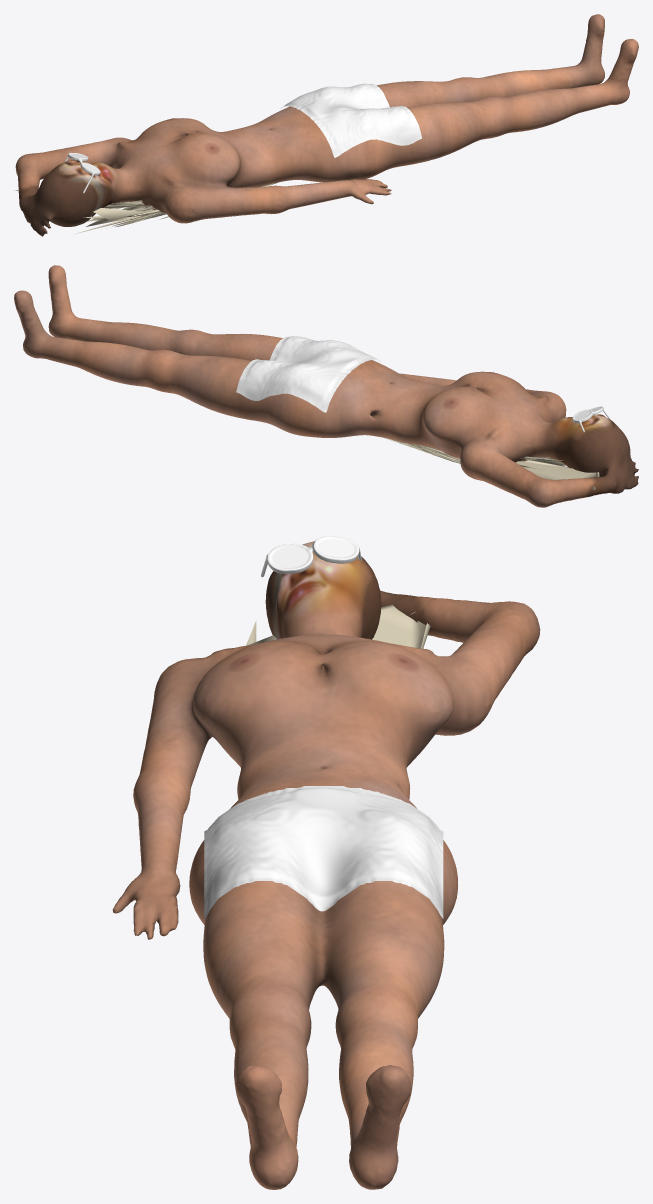
Rendered from kundin_lie_a.glb.
3 views of the same model, one above another, from view 1: azimuth 30°, elevation 25°; view 2: azimuth 150°, elevation 25°; view 3: azimuth 270°, elevation 25° (orthographic). The views are drawn at different scales.
Visible parts, largest first — view 1: body, towel, hair, glasses; view 2: body, towel, hair; view 3: body, towel, glasses, hair.
Boxes of the visible parts, x1=… form: body: x1=15, y1=14, x2=638, y2=236; towel: x1=281, y1=83, x2=422, y2=157; hair: x1=14, y1=182, x2=278, y2=234; glasses: x1=64, y1=152, x2=100, y2=193; body: x1=14, y1=265, x2=638, y2=507; towel: x1=236, y1=336, x2=380, y2=412; hair: x1=385, y1=438, x2=599, y2=489; body: x1=112, y1=541, x2=540, y2=1189; towel: x1=204, y1=786, x2=443, y2=919; glasses: x1=261, y1=536, x2=361, y2=577; hair: x1=246, y1=604, x2=430, y2=648.
Bounding box in the file's own units: 1.9 × 0.2171 × 0.6007.
Materials: 4 (1 with a texture image).
